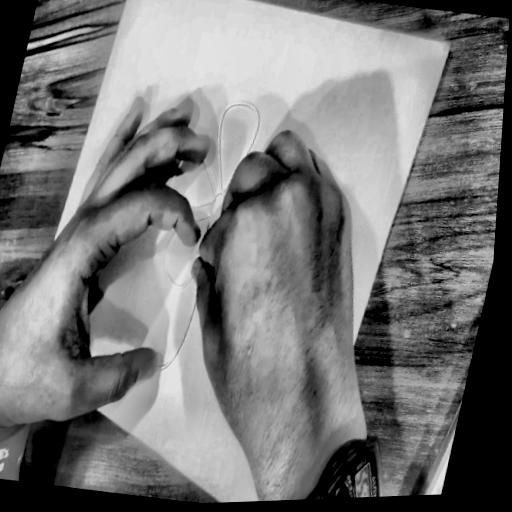bottom_right: (15, 336, 27, 353)
flower: (104, 76, 315, 422)
top_left: (440, 39, 454, 59)
